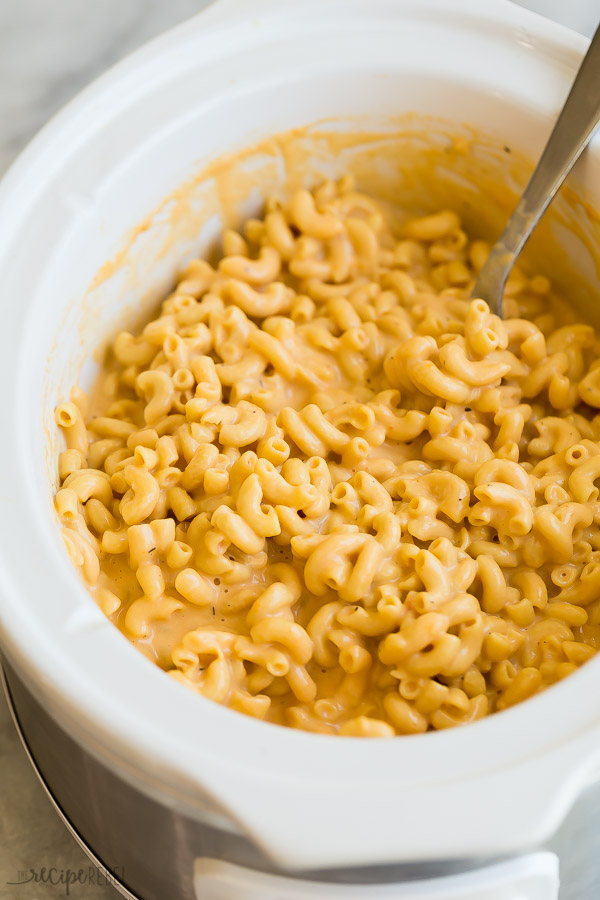cheese: (229, 318, 412, 509)
